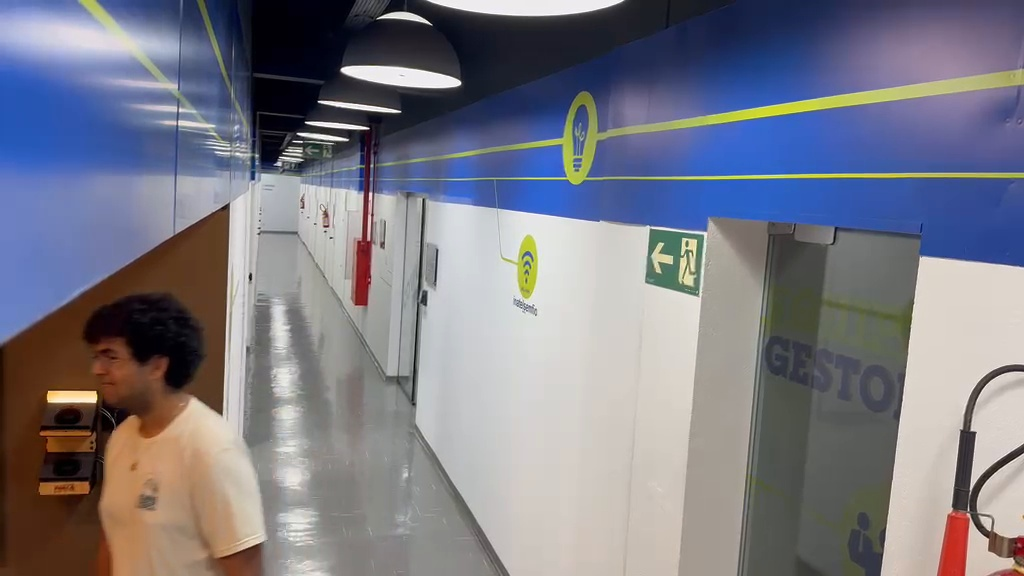person: (83, 291, 267, 573)
